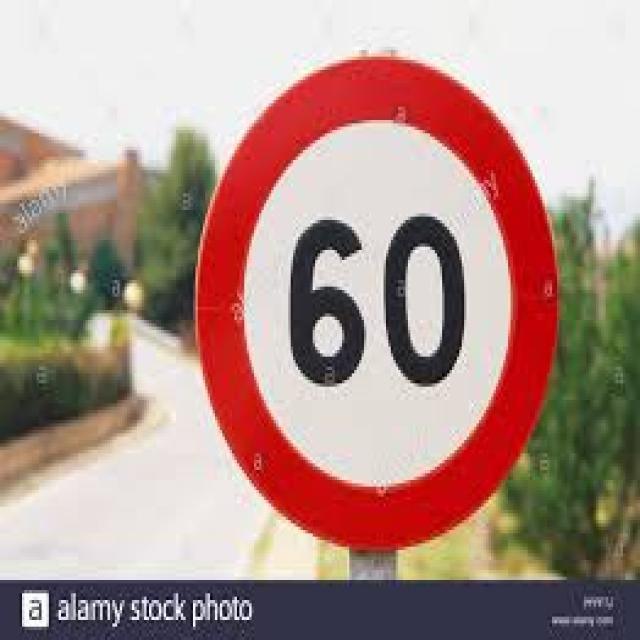Limite-60: (191, 51, 565, 558)
